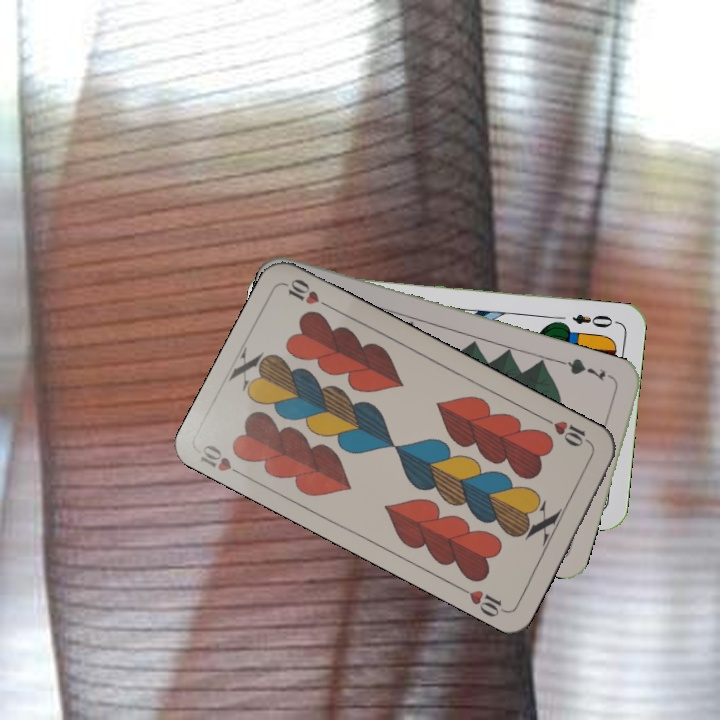EO: (568, 309, 620, 330)
G7: (559, 354, 608, 384)
H10: (196, 440, 250, 481), (540, 414, 595, 450)
